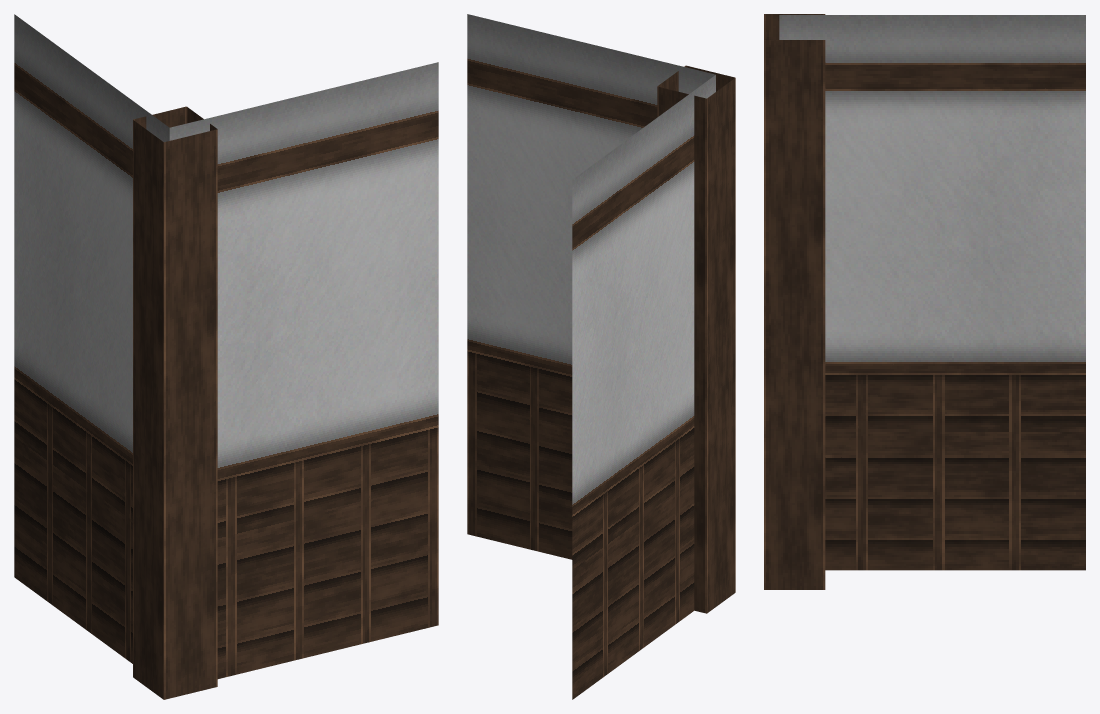
File: house_wall_a_corner_2x2.glb
The picture shows the model from 3 angles, left to right: view 1: azimuth 30°, elevation 25°; view 2: azimuth 150°, elevation 25°; view 3: azimuth 270°, elevation 25°; orthographic projection. The views are drawn at different scales.
Visible parts, largest first — view 1: house_wall_a_corner_2x2; view 2: house_wall_a_corner_2x2; view 3: house_wall_a_corner_2x2.
Boxes of the visible parts, <box> form: house_wall_a_corner_2x2: <box>14,14,438,699</box>; house_wall_a_corner_2x2: <box>467,14,735,699</box>; house_wall_a_corner_2x2: <box>764,14,1085,589</box>.
Bounding box in the file's own units: 2.1 × 4 × 2.1.
2 materials, 2 textured.
